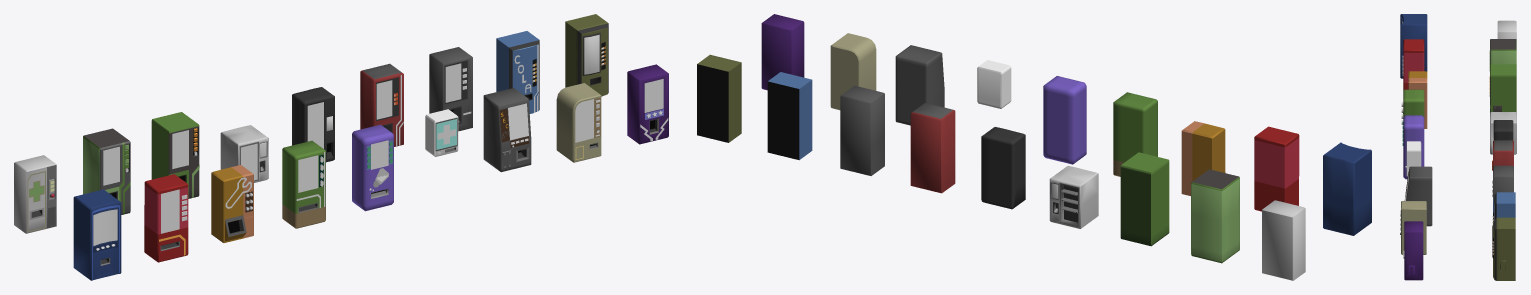
The model's file is vending machines.fbx.
3 renders of one model, left to right at view 1: azimuth 30°, elevation 25°; view 2: azimuth 150°, elevation 25°; view 3: azimuth 270°, elevation 25°, orthographic. The views are drawn at different scales.
Parts seen in each view (by area): view 1: Vendomat, HotDrinks, NanoMedPlus, MegaSeed Servitor, YouTool, AutoDrobe, SecTech, Dinnerware, RobustSoftDrinks.Cola, MegaSeed, NutriMax, MagiVend (+19 smaller); view 2: MegaSeed, NutriMax, Vendomat, Getmore, CigaretteMachine, RobustSoftDrinks.Cola, HotDrinks, Dinnerware, AutoDrobe, BoozeOMat, NanoMedPlus, SecTech (+6 smaller); view 3: HotDrinks, MegaSeed, MagiVend, SecTech, Vendomat, Dinnerware, AutoDrobe, PTech, NutriMax, MegaSeed Servitor, CigaretteMachine, RobustSoftDrinks.Cola (+6 smaller).
Part boxes in pixels (box(x1,y1,x2,y2)): Vendomat: box(73, 189, 121, 280); HotDrinks: box(565, 14, 608, 96); NanoMedPlus: box(14, 155, 56, 233); MegaSeed Servitor: box(282, 140, 325, 228); YouTool: box(211, 165, 253, 242); AutoDrobe: box(144, 174, 188, 262); SecTech: box(483, 88, 531, 172); Dinnerware: box(352, 124, 393, 211); RobustSoftDrinks.Cola: box(496, 31, 539, 113); MegaSeed: box(151, 112, 199, 198); NutriMax: box(83, 128, 130, 214); MagiVend: box(627, 64, 668, 144); MegaSeed: box(1120, 152, 1169, 246); NutriMax: box(1191, 169, 1239, 263); Vendomat: box(1323, 142, 1371, 235); Getmore: box(910, 103, 955, 193); CigaretteMachine: box(840, 85, 884, 175); RobustSoftDrinks.Cola: box(767, 72, 812, 160); HotDrinks: box(697, 54, 741, 142); Dinnerware: box(1043, 76, 1086, 164); AutoDrobe: box(1254, 126, 1299, 211); BoozeOMat: box(981, 127, 1025, 209); NanoMedPlus: box(1262, 200, 1305, 280); SecTech: box(895, 45, 944, 125); HotDrinks: box(1492, 217, 1515, 280); MegaSeed: box(1489, 64, 1516, 112); MagiVend: box(1403, 221, 1423, 280); SecTech: box(1404, 166, 1432, 226); Vendomat: box(1400, 14, 1427, 78); Dinnerware: box(1402, 115, 1424, 179); AutoDrobe: box(1402, 39, 1424, 90); PTech: box(1400, 201, 1426, 254); NutriMax: box(1489, 39, 1516, 70); MegaSeed Servitor: box(1401, 89, 1424, 124); CigaretteMachine: box(1492, 165, 1513, 197); RobustSoftDrinks.Cola: box(1492, 192, 1515, 222).
Size of the model in its own units: 16.93 by 2.03 by 3.92.
